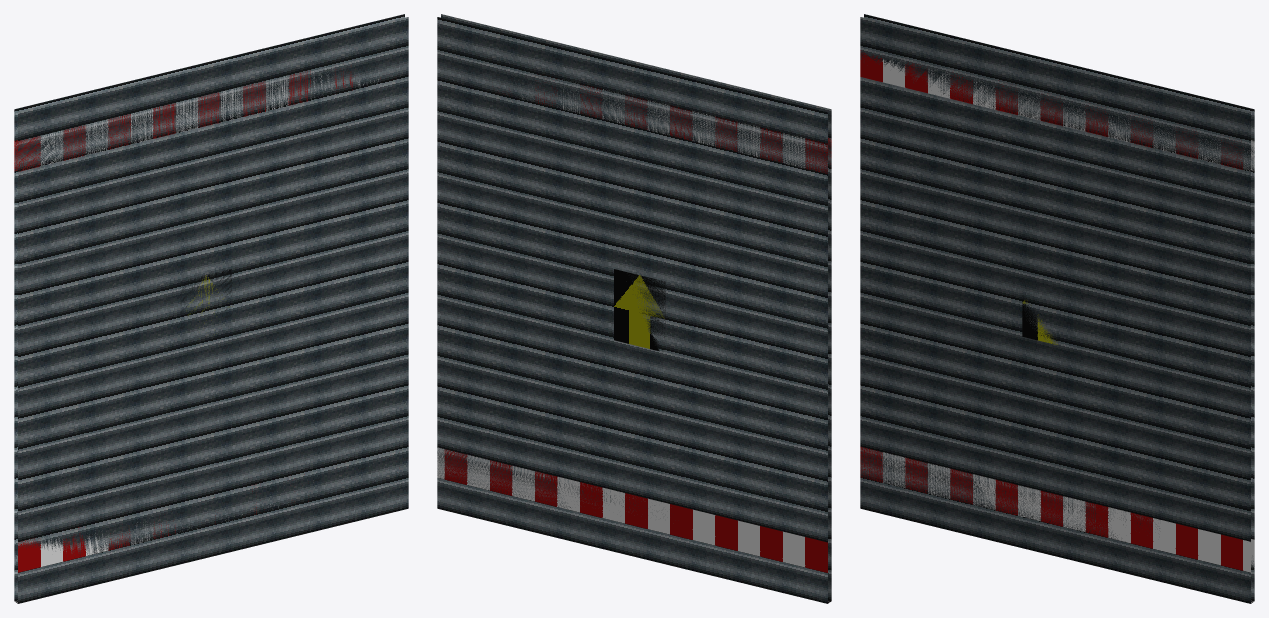
File: primary_123.glb
3 views of the same model, side by side, from view 1: azimuth 30°, elevation 25°; view 2: azimuth 150°, elevation 25°; view 3: azimuth 330°, elevation 25° (orthographic).
Parts seen in each view (by area): view 1: Object; view 2: Object; view 3: Object.
Part boxes in pixels (x1=…): Object: x1=14, y1=14, x2=408, y2=603; Object: x1=437, y1=14, x2=831, y2=603; Object: x1=860, y1=14, x2=1254, y2=603.
Size of the model in its own units: 3.05 by 3.68 by 0.0518.
6 materials, 6 textured.
